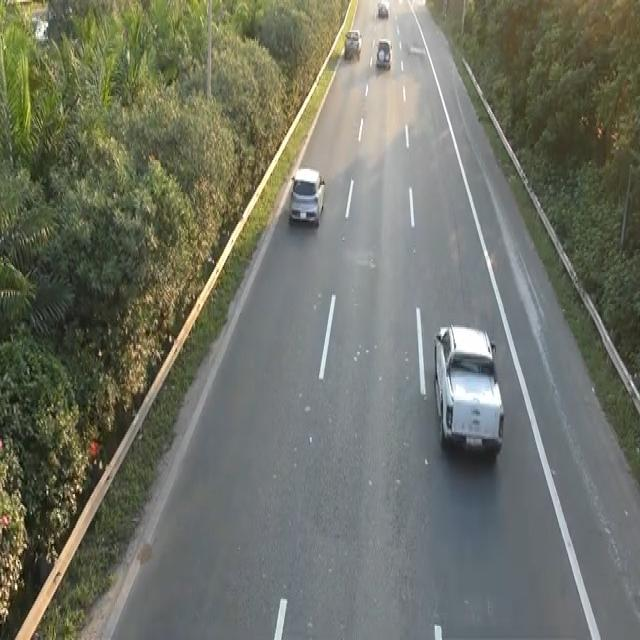bus: (288, 164, 325, 228)
car: (431, 320, 508, 464), (375, 36, 392, 70)
